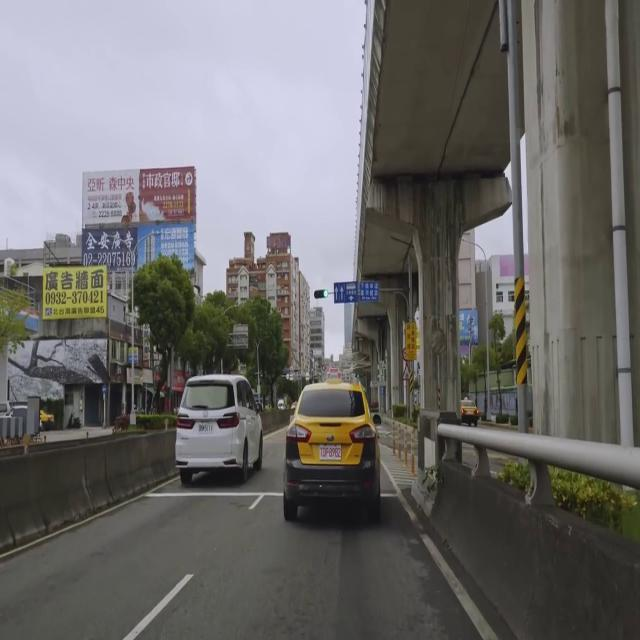green light: (314, 289, 328, 299)
